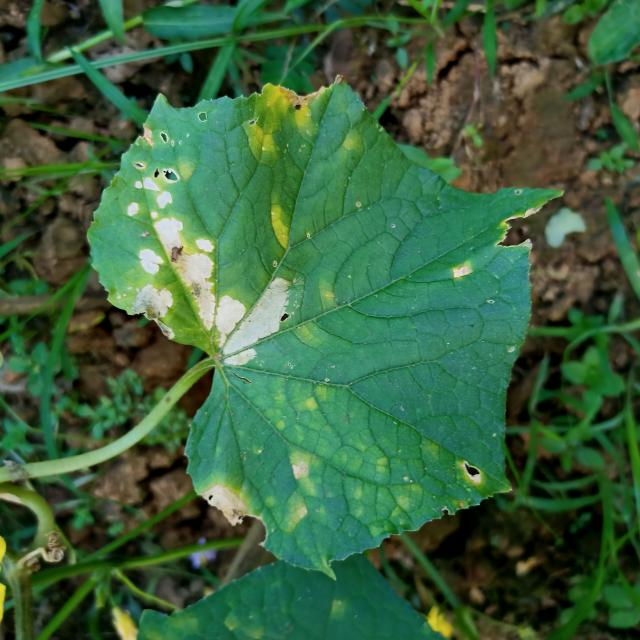disease_cucumber: (121, 142, 300, 375), (234, 80, 324, 173), (276, 438, 342, 531), (257, 191, 305, 259)
